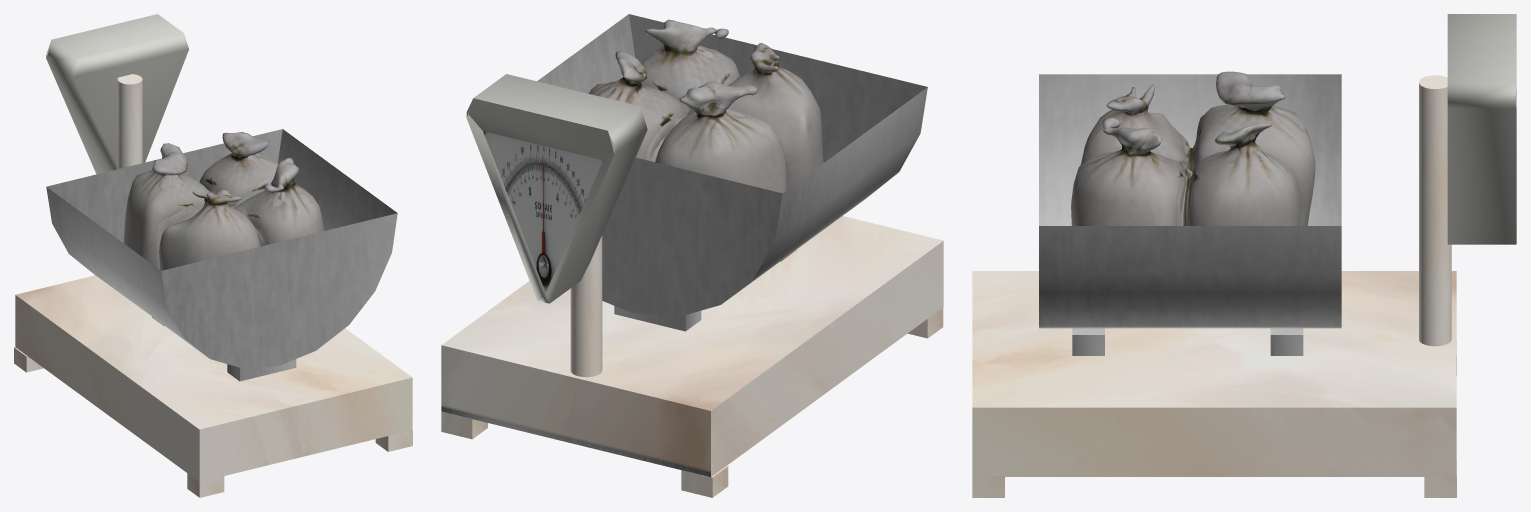
The model's file is Bascula.obj.
3 renders of one model, left to right at view 1: azimuth 30°, elevation 25°; view 2: azimuth 150°, elevation 25°; view 3: azimuth 270°, elevation 25°, orthographic. The views are drawn at different scales.
Visible parts, largest first — view 1: Bascula; view 2: Bascula; view 3: Bascula.
Boxes of the visible parts, box(x1,y1,x2,y2) form: Bascula: box(14, 14, 412, 497); Bascula: box(441, 14, 943, 497); Bascula: box(972, 14, 1516, 497).
Size of the model in its own units: 2.84 by 3.35 by 4.3.
3 materials, 3 textured.
